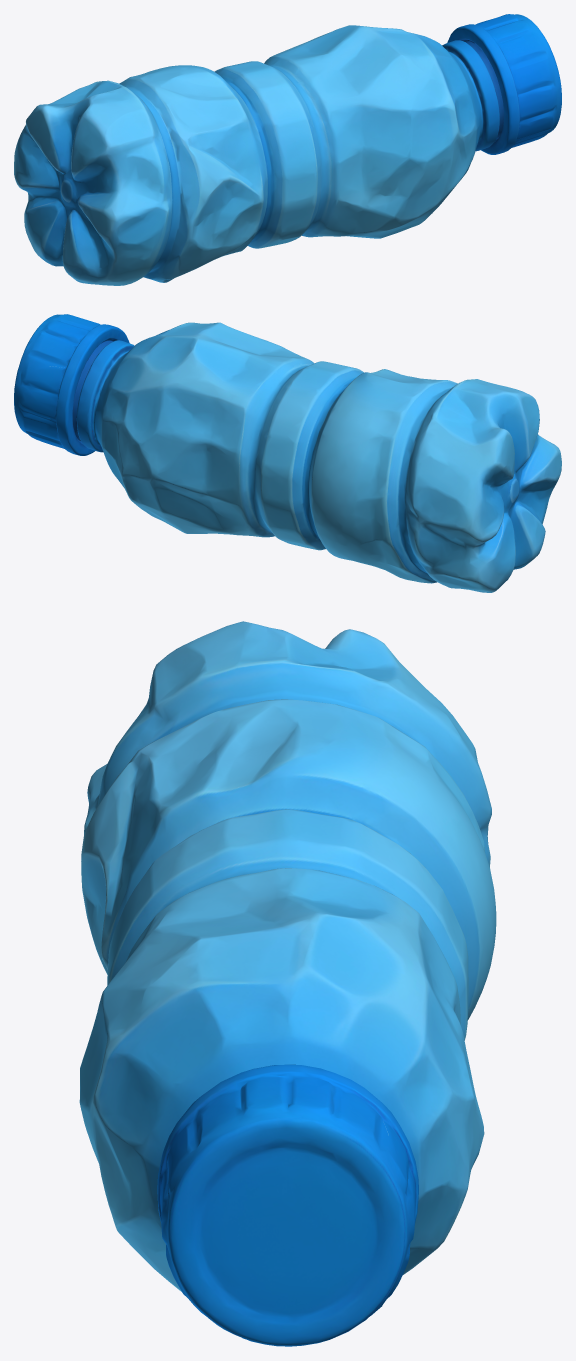
The model's file is PlasticBottle.fbx.
3 renders of one model, top to bottom at view 1: azimuth 30°, elevation 25°; view 2: azimuth 150°, elevation 25°; view 3: azimuth 270°, elevation 25°, orthographic. The views are drawn at different scales.
Visible parts, largest first — view 1: tripo_node_6c690db5; view 2: tripo_node_6c690db5; view 3: tripo_node_6c690db5.
Boxes of the visible parts, x1,y1,x2,y2 form: tripo_node_6c690db5: [14, 14, 561, 285]; tripo_node_6c690db5: [14, 314, 561, 592]; tripo_node_6c690db5: [79, 621, 496, 1346].
Size of the model in its own units: 1 by 0.393 by 0.372.
